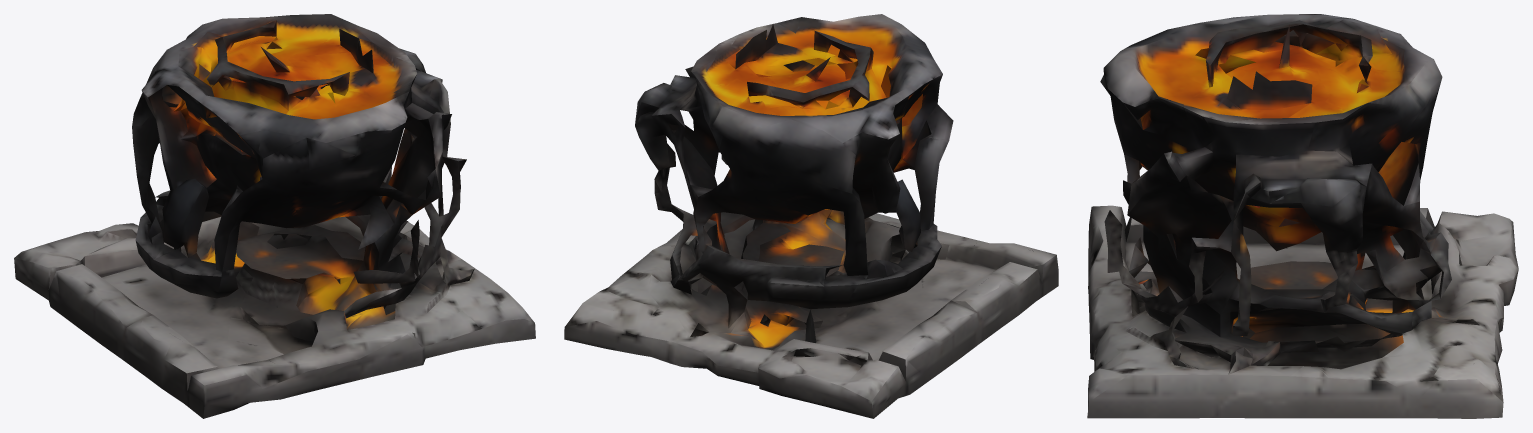
The model's file is foundry-magma-crucible.glb.
3 renders of one model, left to right at view 1: azimuth 30°, elevation 25°; view 2: azimuth 150°, elevation 25°; view 3: azimuth 270°, elevation 25°, orthographic. The views are drawn at different scales.
Parts seen in each view (by area): view 1: a-single-gigantic-black-iron-foundry-crucible_optimized; view 2: a-single-gigantic-black-iron-foundry-crucible_optimized; view 3: a-single-gigantic-black-iron-foundry-crucible_optimized.
Part boxes in pixels (x1,y1,x2,y2): a-single-gigantic-black-iron-foundry-crucible_optimized: (14,14,535,418); a-single-gigantic-black-iron-foundry-crucible_optimized: (564,14,1058,418); a-single-gigantic-black-iron-foundry-crucible_optimized: (1087,14,1518,418).
Bounding box in the file's own units: 0.9653 × 0.7647 × 0.9894.
1 material, 1 textured.
